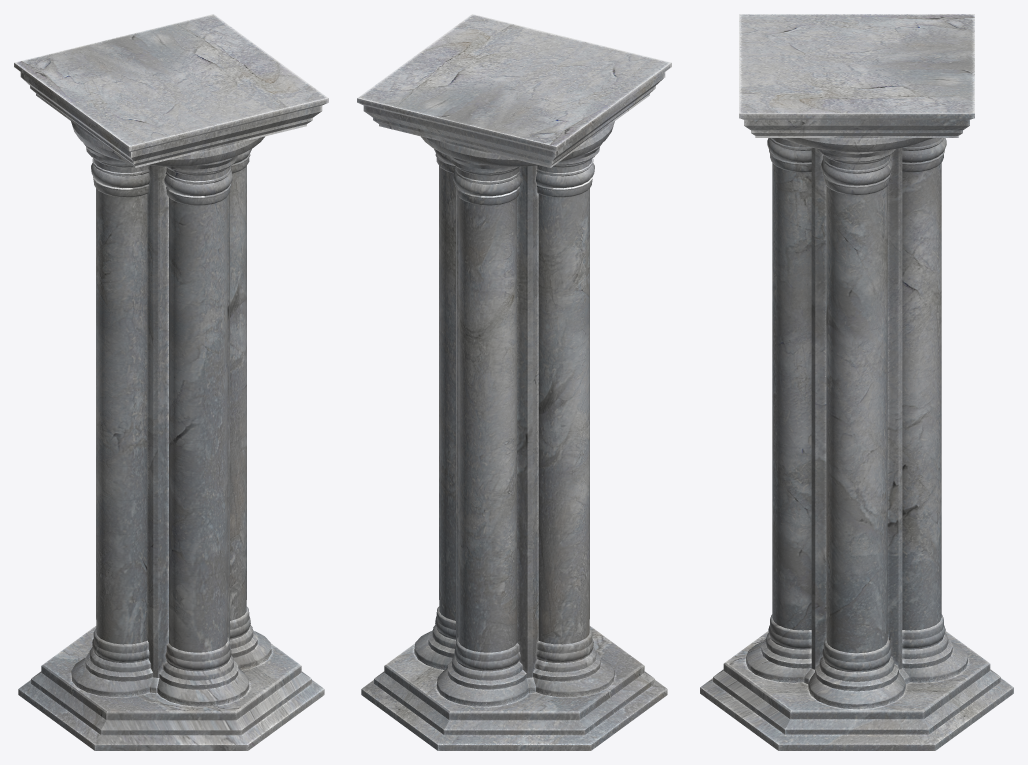
The model's file is gothic_style_monument.glb.
3 renders of one model, left to right at view 1: azimuth 30°, elevation 25°; view 2: azimuth 150°, elevation 25°; view 3: azimuth 270°, elevation 25°, orthographic. The views are drawn at different scales.
Parts seen in each view (by area): view 1: GothicMonument_0; view 2: GothicMonument_0; view 3: GothicMonument_0.
Part boxes in pixels (x1,y1,x2,y2): GothicMonument_0: [14, 14, 328, 750]; GothicMonument_0: [357, 14, 671, 750]; GothicMonument_0: [700, 14, 1013, 750].
Size of the model in its own units: 2.51 by 6.41 by 2.89.
1 material, 1 textured.
